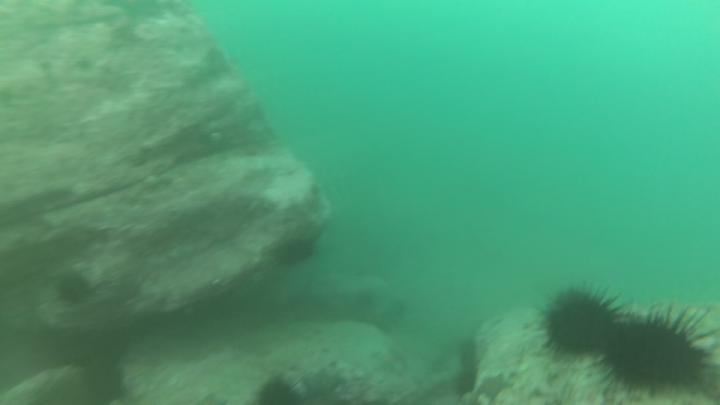echinus: (586, 303, 719, 397), (534, 281, 630, 362), (83, 359, 126, 405), (51, 270, 98, 310), (252, 375, 305, 405), (285, 233, 318, 268), (453, 368, 481, 397), (457, 339, 481, 371)
starfish: (300, 366, 347, 402), (478, 373, 515, 403), (195, 391, 232, 405)
